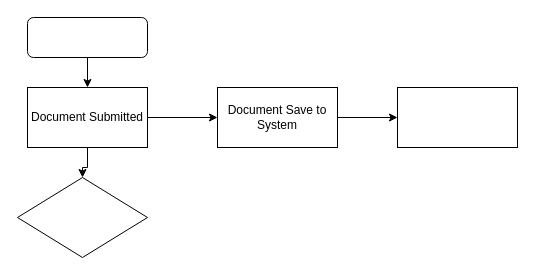
Image size: 535x275. Some labels were removed from this diagram. The box of each missing label's shape, as (x1, y1, x2, y2) in pixels:
Notification to Assigned Approver: (396, 86, 518, 148)
Start: (26, 16, 148, 58)
